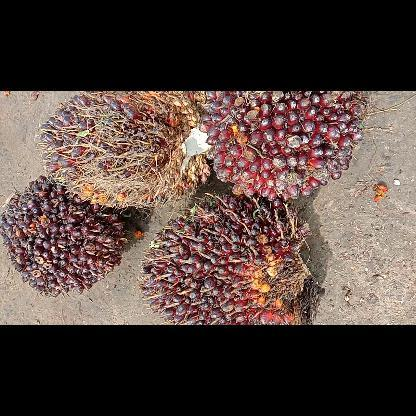Kurang masak: (139, 192, 324, 324), (36, 90, 210, 208), (199, 91, 365, 201), (0, 175, 129, 298)
